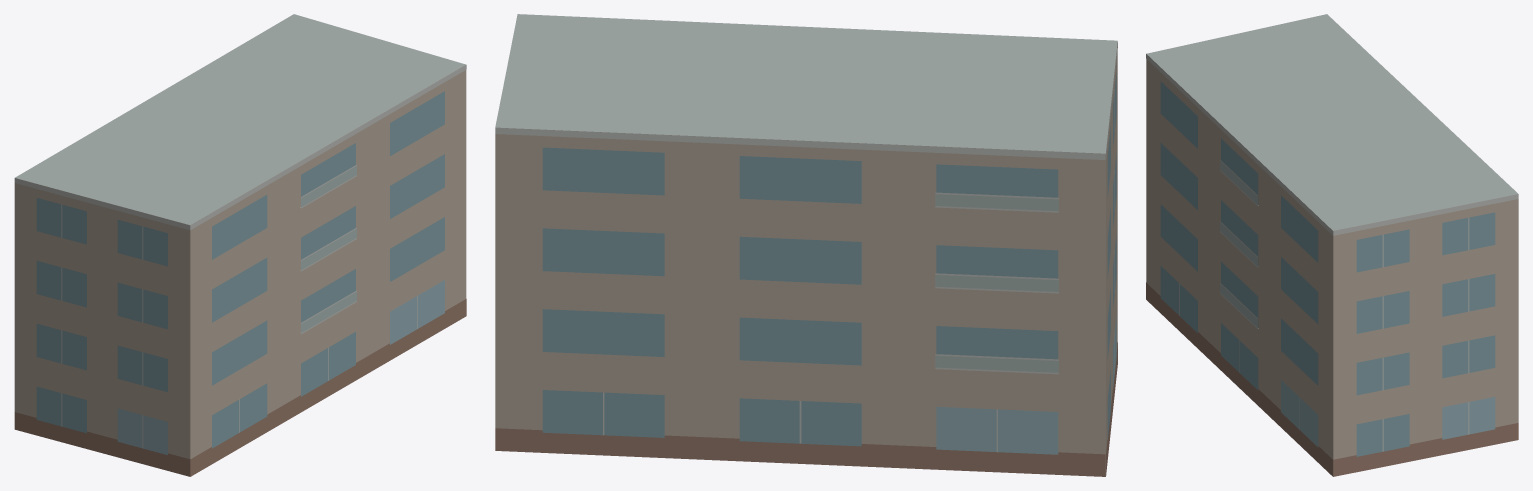
Rendered from survey-upis-32788269.glb.
3 views of the same model, side by side, from view 1: azimuth 30°, elevation 25°; view 2: azimuth 150°, elevation 25°; view 3: azimuth 270°, elevation 25° (orthographic). The views are drawn at different scales.
Visible parts, largest first — view 1: survey-upis-32788269.tmp; view 2: survey-upis-32788269.tmp; view 3: survey-upis-32788269.tmp.
Part boxes in pixels (box(x1,y1,x2,y2)): survey-upis-32788269.tmp: box(14, 14, 466, 476); survey-upis-32788269.tmp: box(495, 14, 1117, 476); survey-upis-32788269.tmp: box(1146, 14, 1518, 476).
Size of the model in its own units: 23.09 by 12.2 by 16.76.
